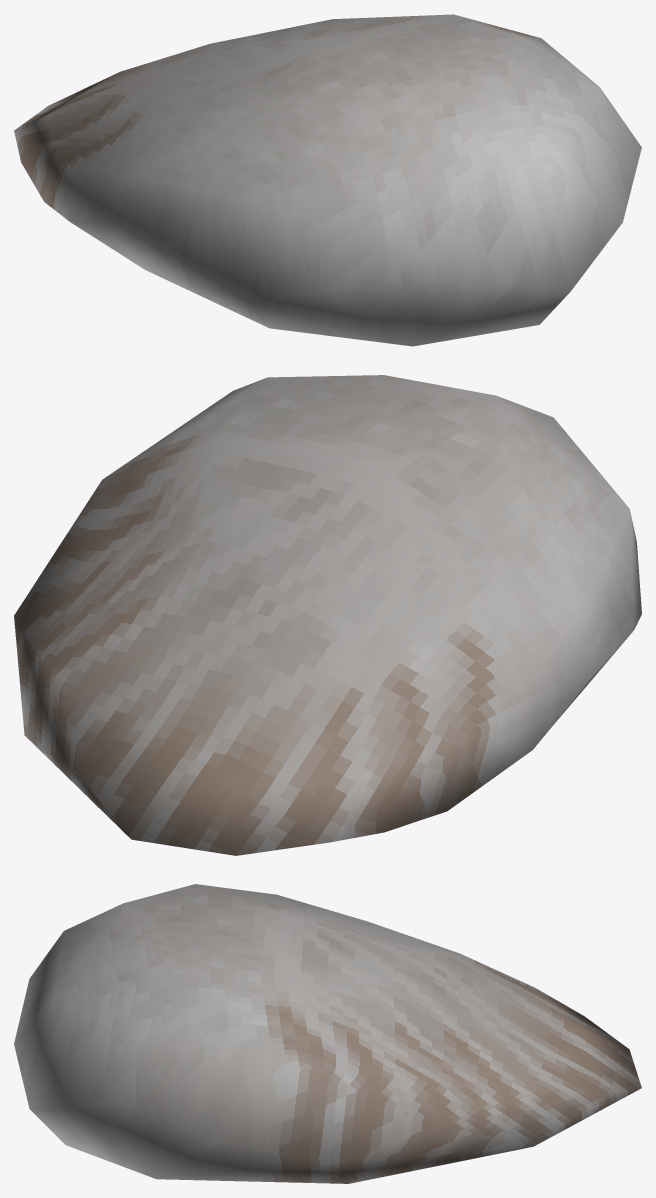
Rendered from Clam.fbx.
The picture shows the model from 3 angles, top to bottom: view 1: azimuth 30°, elevation 25°; view 2: azimuth 150°, elevation 25°; view 3: azimuth 270°, elevation 25°; orthographic projection. The views are drawn at different scales.
Visible parts, largest first — view 1: Clam; view 2: Clam; view 3: Clam.
Part boxes in pixels (<box>): Clam: <box>14,14,641,346</box>; Clam: <box>14,375,641,855</box>; Clam: <box>14,884,641,1183</box>.
Bounding box in the file's own units: 11.99 × 5.64 × 15.61.
